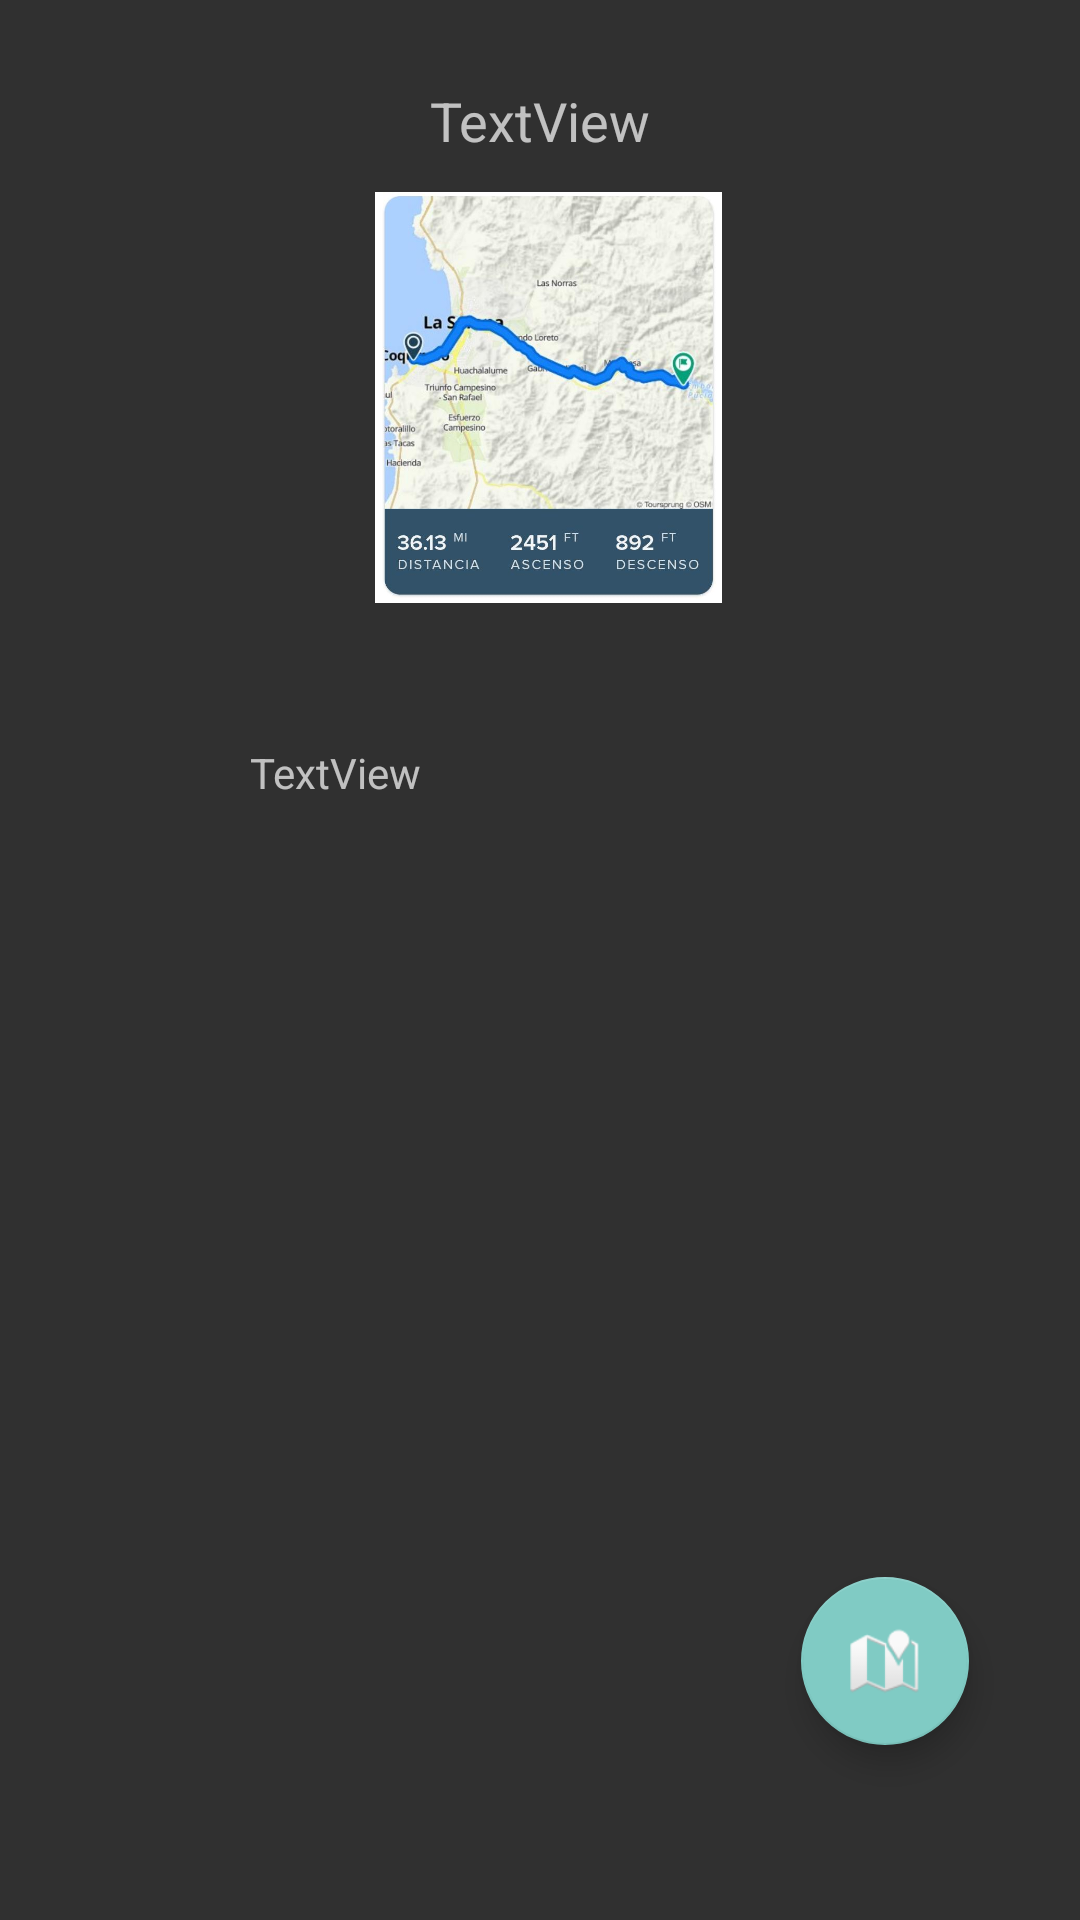

Named icons in this screenshot (1080px x 1920px) and their centers, (x=x, y=y):
map: (x=885, y=1661)
